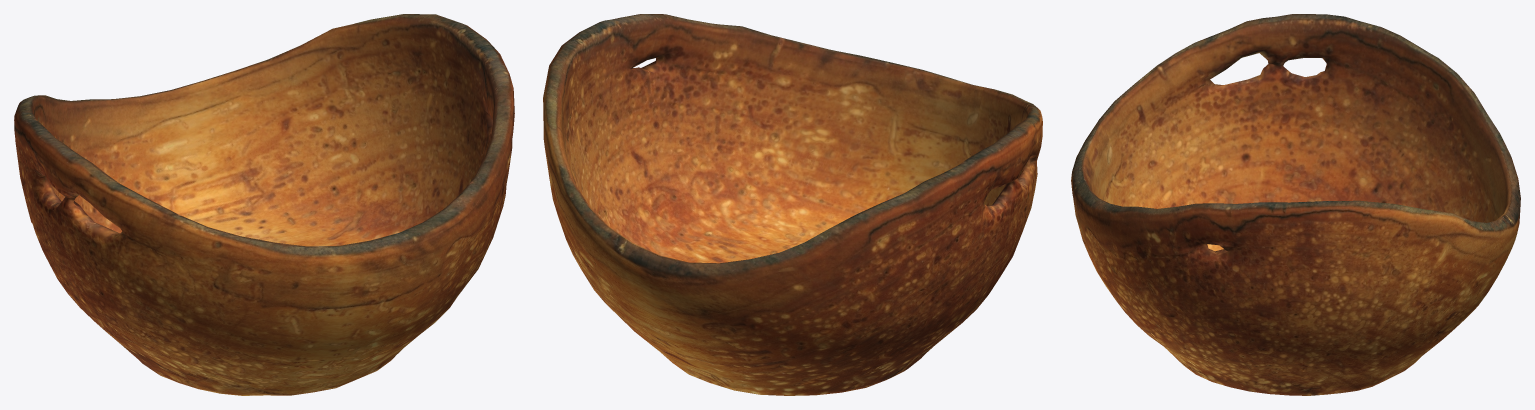
Rendered from wooden_bowl_02.glb.
3 renders of one model, left to right at view 1: azimuth 30°, elevation 25°; view 2: azimuth 150°, elevation 25°; view 3: azimuth 270°, elevation 25°, orthographic. The views are drawn at different scales.
Visible parts, largest first — view 1: wooden_bowl_02; view 2: wooden_bowl_02; view 3: wooden_bowl_02.
Part boxes in pixels (box(x1,y1,x2,y2)): wooden_bowl_02: box(14, 14, 514, 395); wooden_bowl_02: box(543, 14, 1042, 395); wooden_bowl_02: box(1071, 14, 1520, 395).
Bounding box in the file's own units: 0.1307 × 0.0731 × 0.1245.
Materials: 1 (1 with a texture image).
